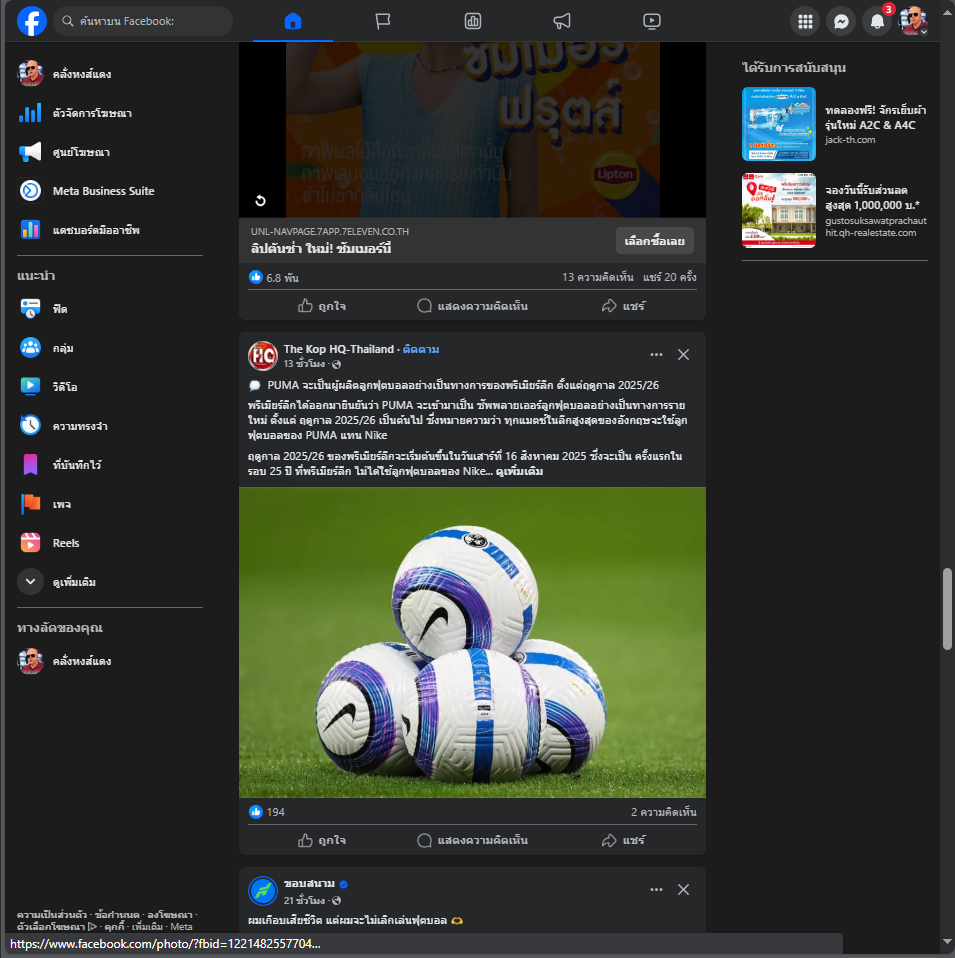topic: (238, 331, 706, 856), (237, 43, 709, 321)
